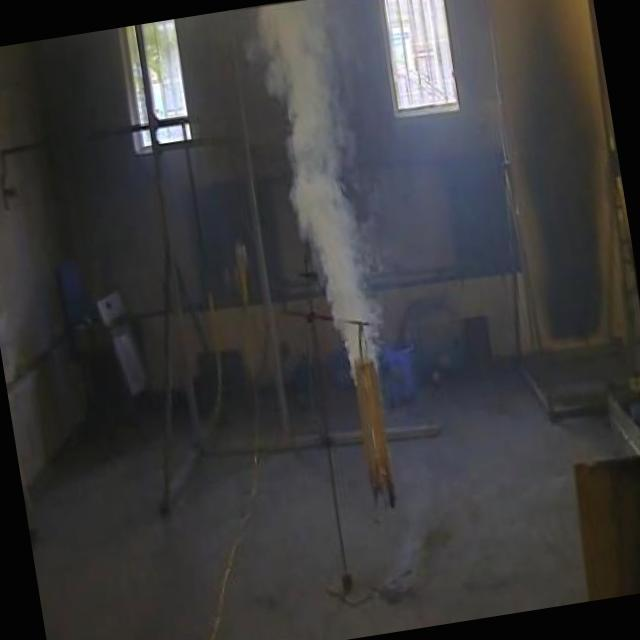smoke: (239, 0, 430, 415)
